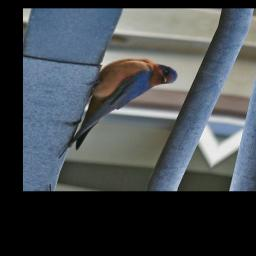Swallow: (57, 52, 183, 171)
